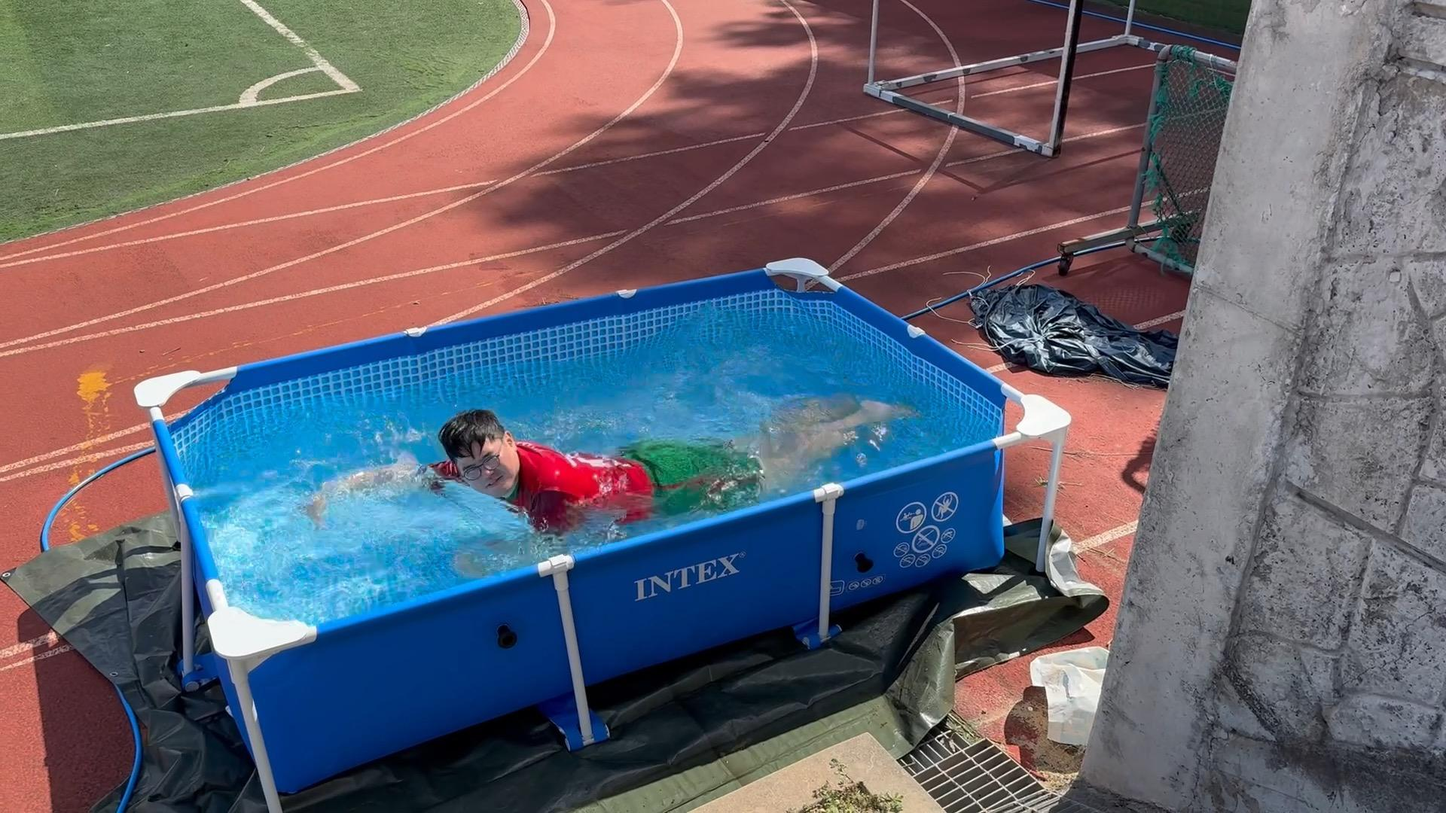Swimming: (276, 335, 892, 573)
